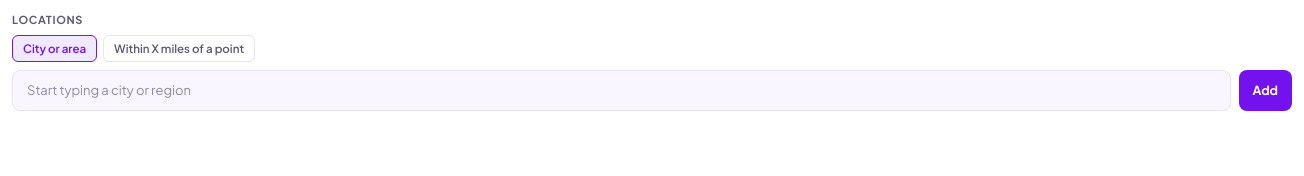
LocationAreaInput place suggestions › suggests real places while typing and adds the picked one
Type "prag" into the dropdown.
click(621, 91); type("prag")  # box 12,70 -> 1230,111
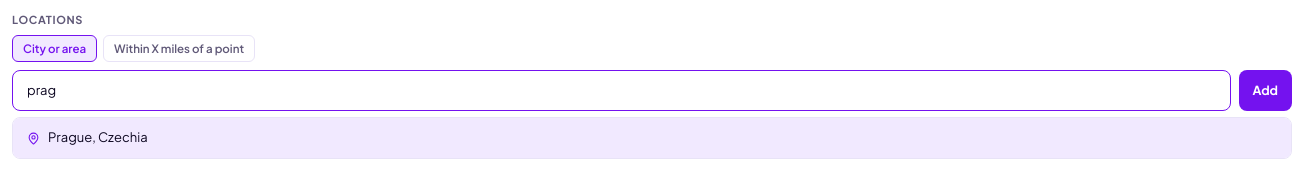
Click the option "Prague, Czechia".
click(98, 137)  # box 13,118 -> 1291,158
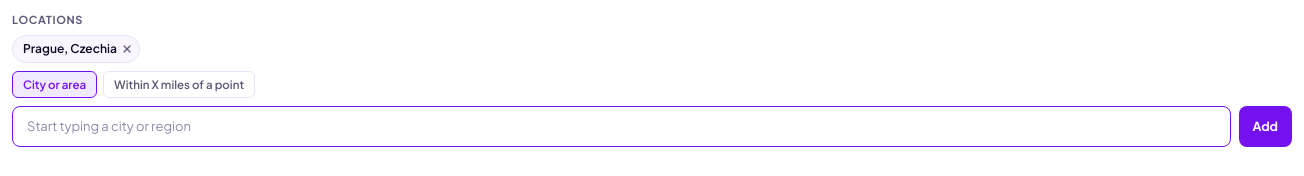
Expected: the dropdown is empty, 12,106 -> 1230,147
